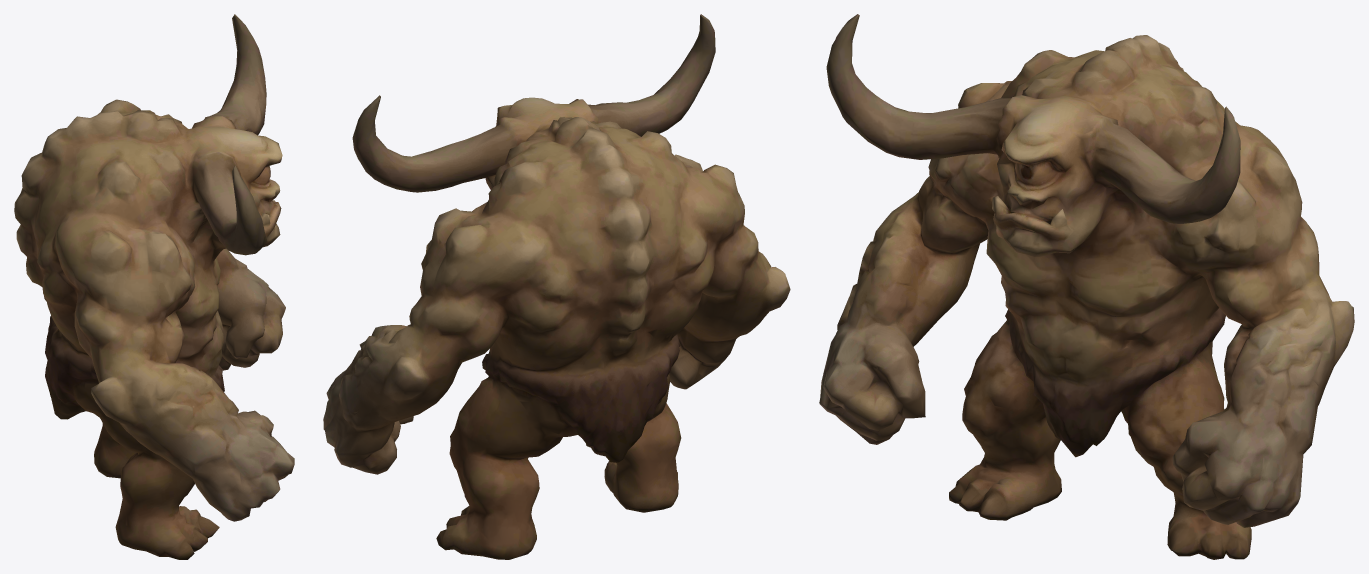
File: source.glb
3 views of the same model, side by side, from view 1: azimuth 30°, elevation 25°; view 2: azimuth 150°, elevation 25°; view 3: azimuth 270°, elevation 25° (orthographic). The views are drawn at different scales.
Parts seen in each view (by area): view 1: tripo_node_13059a37-5823-48ff-a2e7-bb6d6a5de4bf; view 2: tripo_node_13059a37-5823-48ff-a2e7-bb6d6a5de4bf; view 3: tripo_node_13059a37-5823-48ff-a2e7-bb6d6a5de4bf.
Part boxes in pixels (<box>): tripo_node_13059a37-5823-48ff-a2e7-bb6d6a5de4bf: <box>14,14,294,559</box>; tripo_node_13059a37-5823-48ff-a2e7-bb6d6a5de4bf: <box>323,14,790,559</box>; tripo_node_13059a37-5823-48ff-a2e7-bb6d6a5de4bf: <box>819,14,1354,559</box>.
Bounding box in the file's own units: 0.9076 × 1.15 × 1.13.
1 material, 1 textured.
